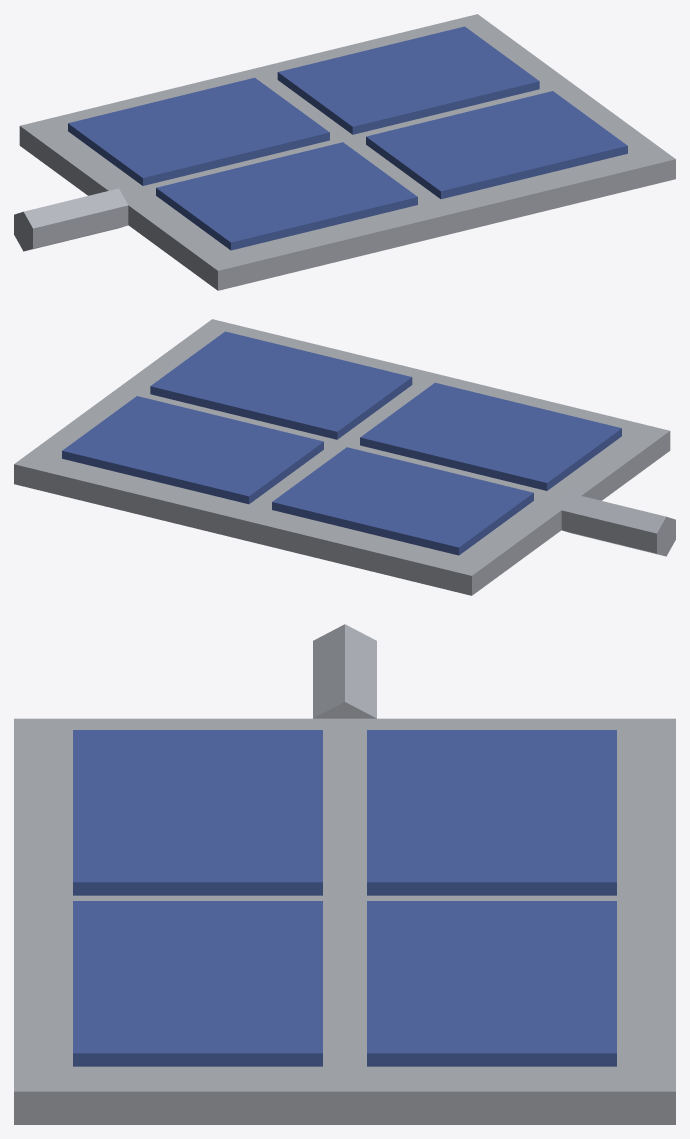
The model's file is solar_small.glb.
3 renders of one model, top to bottom at view 1: azimuth 30°, elevation 25°; view 2: azimuth 150°, elevation 25°; view 3: azimuth 270°, elevation 25°, orthographic. The views are drawn at different scales.
Visible parts, largest first — view 1: solar_small; view 2: solar_small; view 3: solar_small.
Part boxes in pixels (bbox=[...]): solar_small: bbox=[14, 14, 675, 290]; solar_small: bbox=[14, 319, 675, 595]; solar_small: bbox=[14, 624, 675, 1124].
Size of the model in its own units: 1.45 by 0.1 by 0.9.
